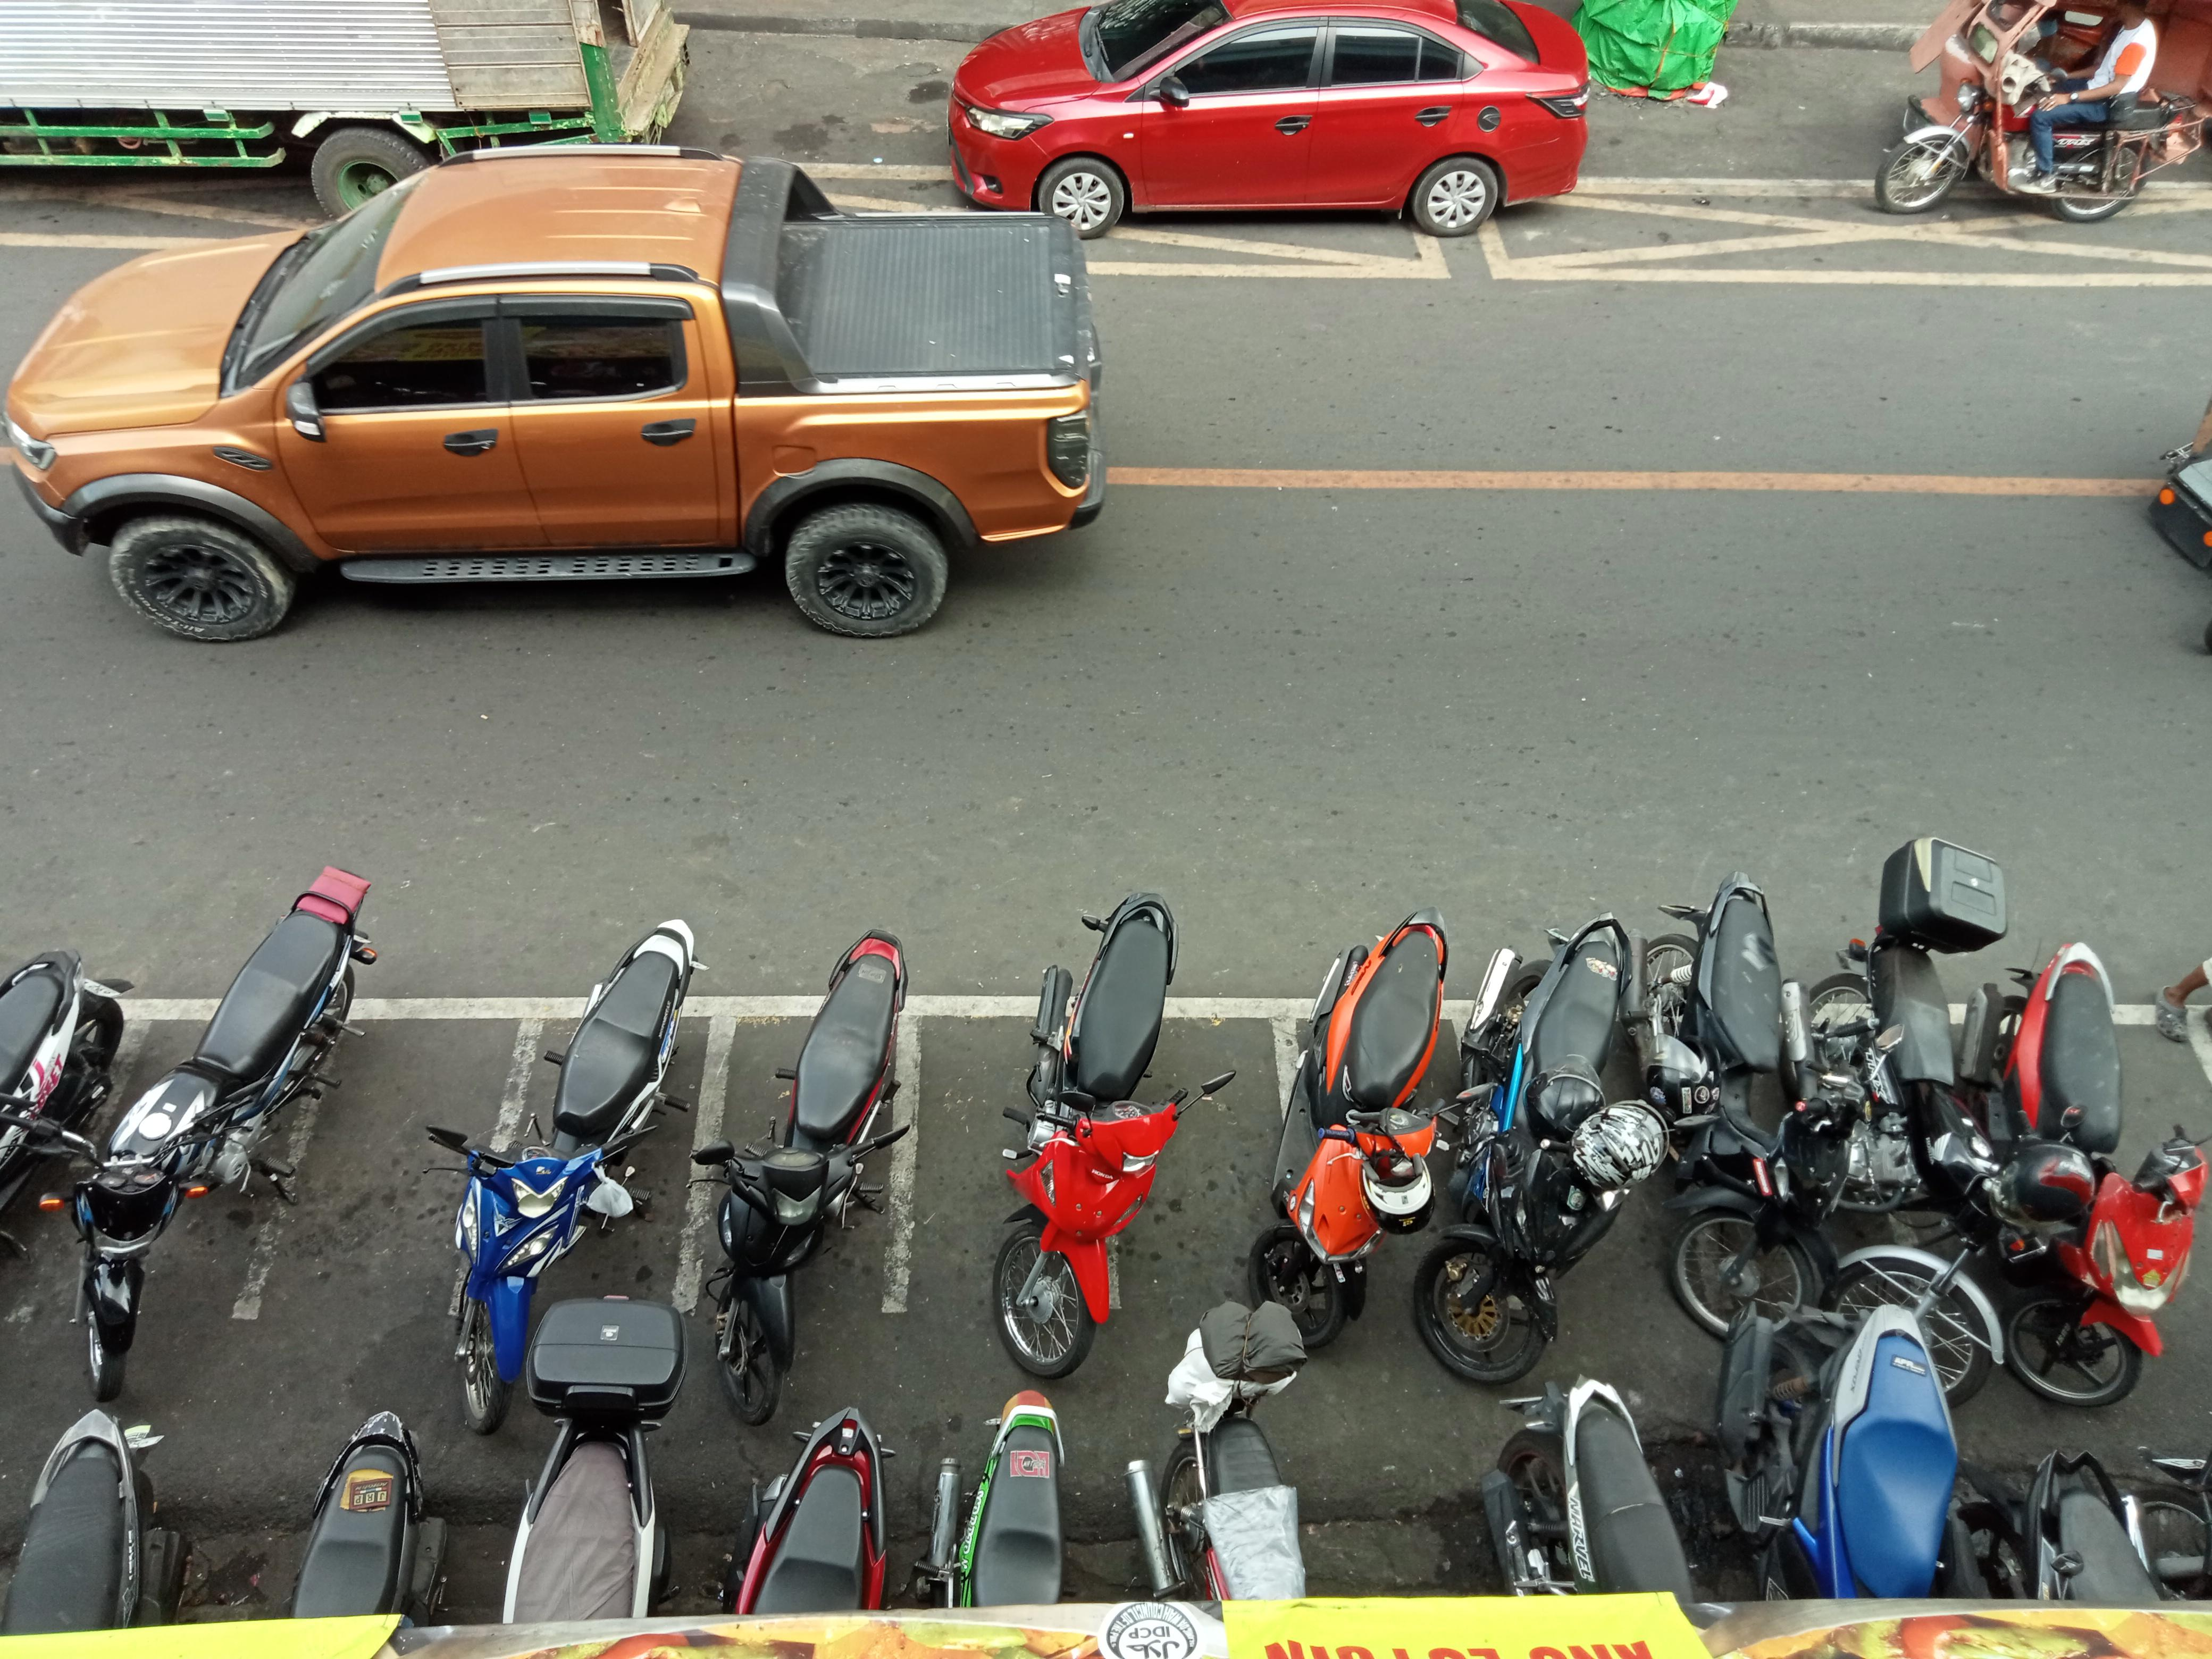occupied: (9, 996, 355, 1318), (447, 998, 741, 1321), (677, 996, 925, 1318), (878, 994, 1124, 1312)
vacant: (233, 998, 548, 1325)
